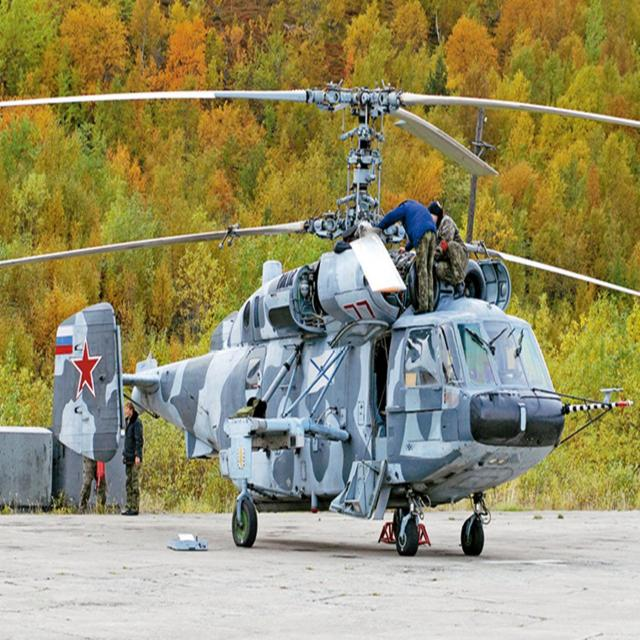MIL_HELO: (0, 64, 640, 564)
